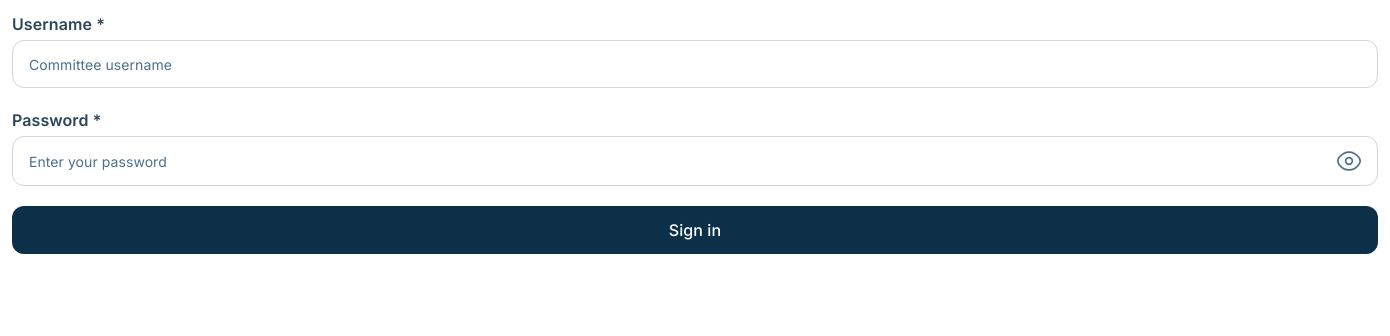
Scenario: AdminSignInForm (A0) › shows a connection message when the server cannot be reached
The width and height of the screenshot is (1390, 336).
In the field labelled "Username": (695, 64) [29, 54, 1361, 74], type "committee"
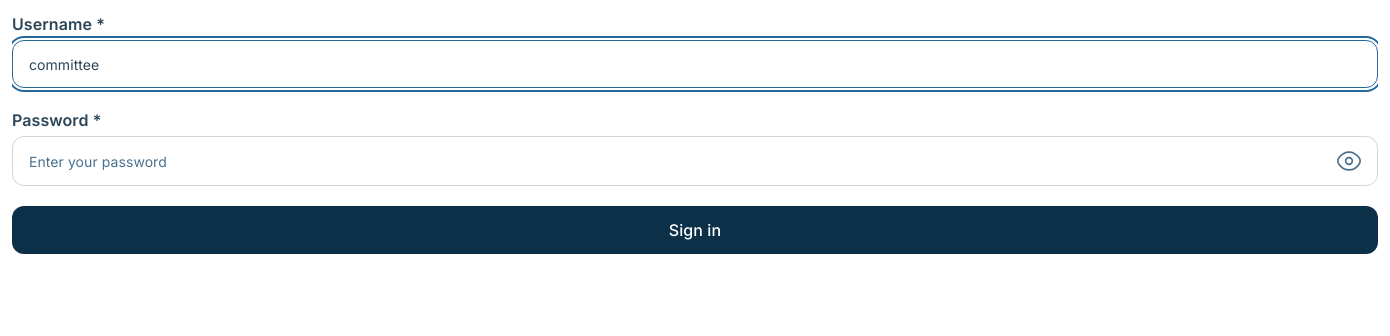
In the password field labelled "Password *": (677, 161) [29, 150, 1325, 172], type "committee2026"
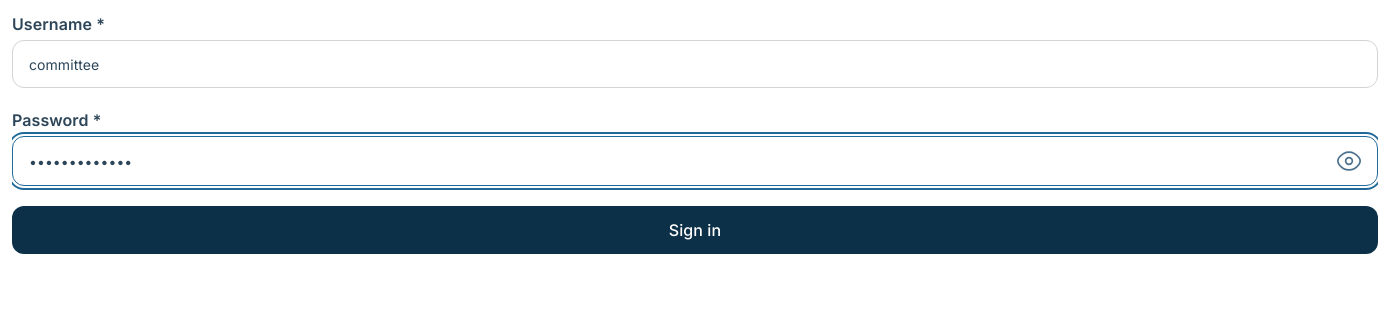
Click the button "Sign in": (695, 230) [12, 206, 1378, 254]
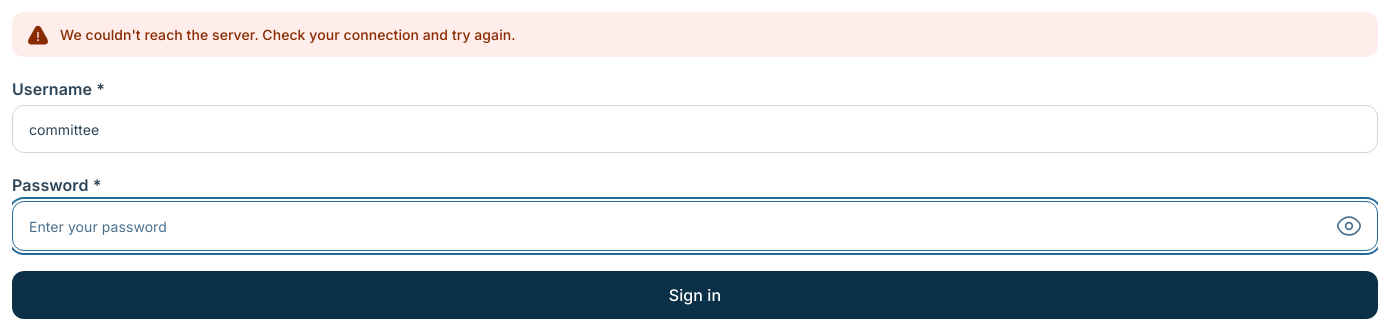
Check: the message shows "We couldn't reach the server", box [60, 26, 516, 43]
